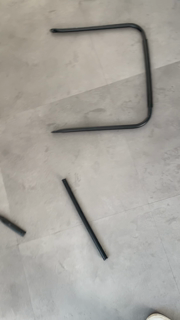C pipe: (50, 17, 156, 137)
i pipe: (60, 175, 111, 264)
